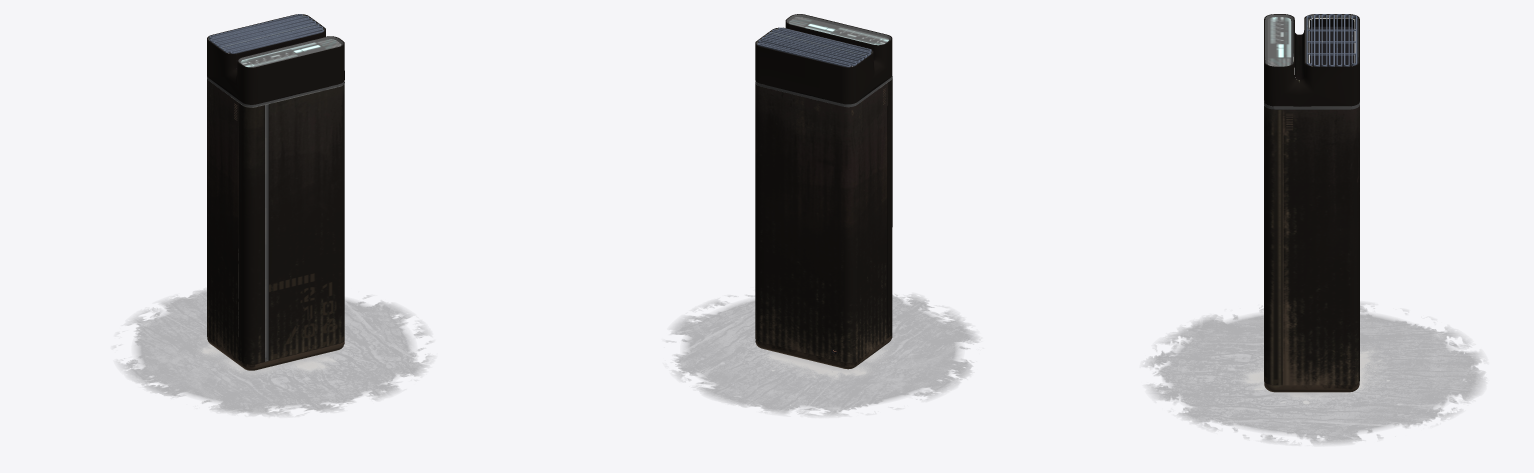
The model's file is fridge.glb.
3 renders of one model, left to right at view 1: azimuth 30°, elevation 25°; view 2: azimuth 150°, elevation 25°; view 3: azimuth 270°, elevation 25°, orthographic. The views are drawn at different scales.
Parts seen in each view (by area): view 1: Object_4; view 2: Object_4; view 3: Object_4.
Boxes of the visible parts, x1=… form: Object_4: x1=123, y1=14, x2=429, y2=414; Object_4: x1=672, y1=14, x2=976, y2=415; Object_4: x1=1147, y1=14, x2=1483, y2=443.
Size of the model in its own units: 0.7 by 0.6282 by 0.7.
3 materials, 3 textured.
